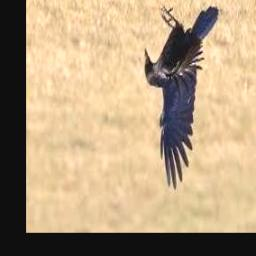Crow: (144, 4, 220, 190)
